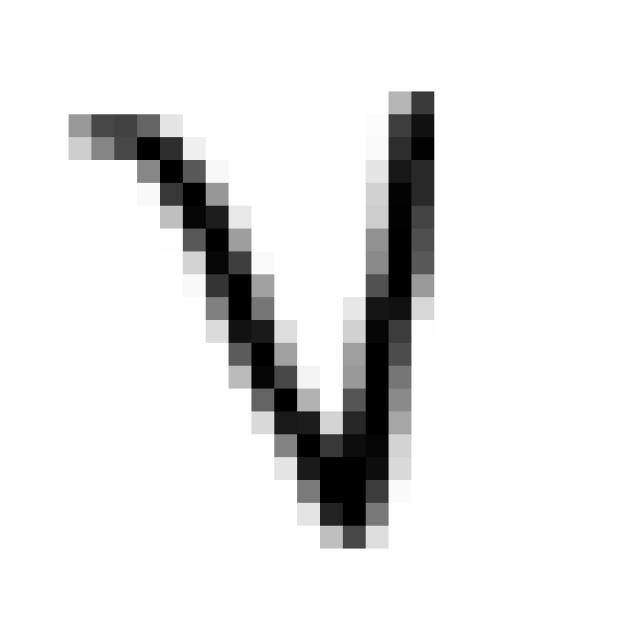7 -seven-: (45, 69, 458, 564)
